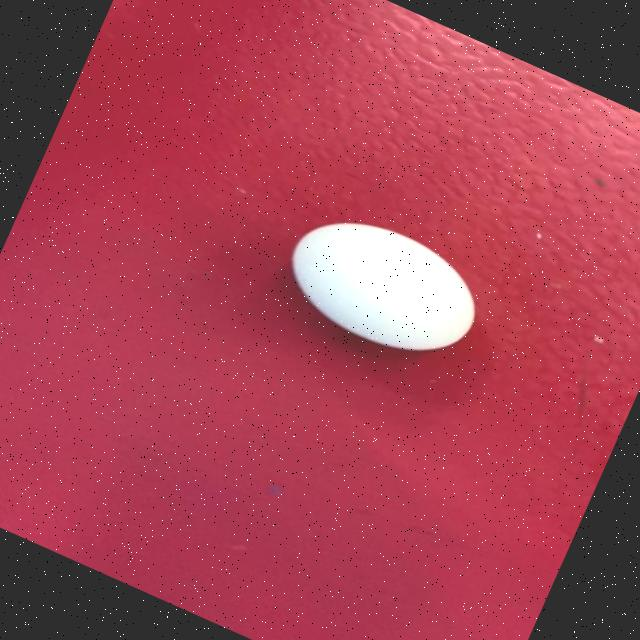ping-pong-ball: (262, 190, 500, 382)
